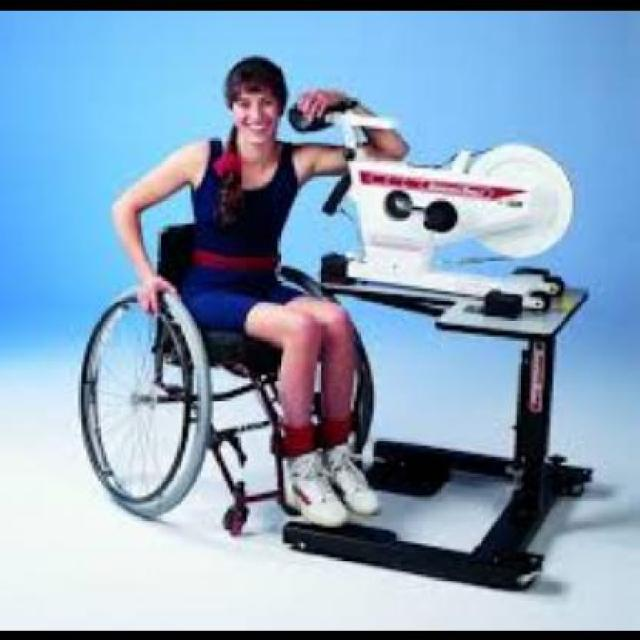wheelchairs: (77, 223, 373, 541)
